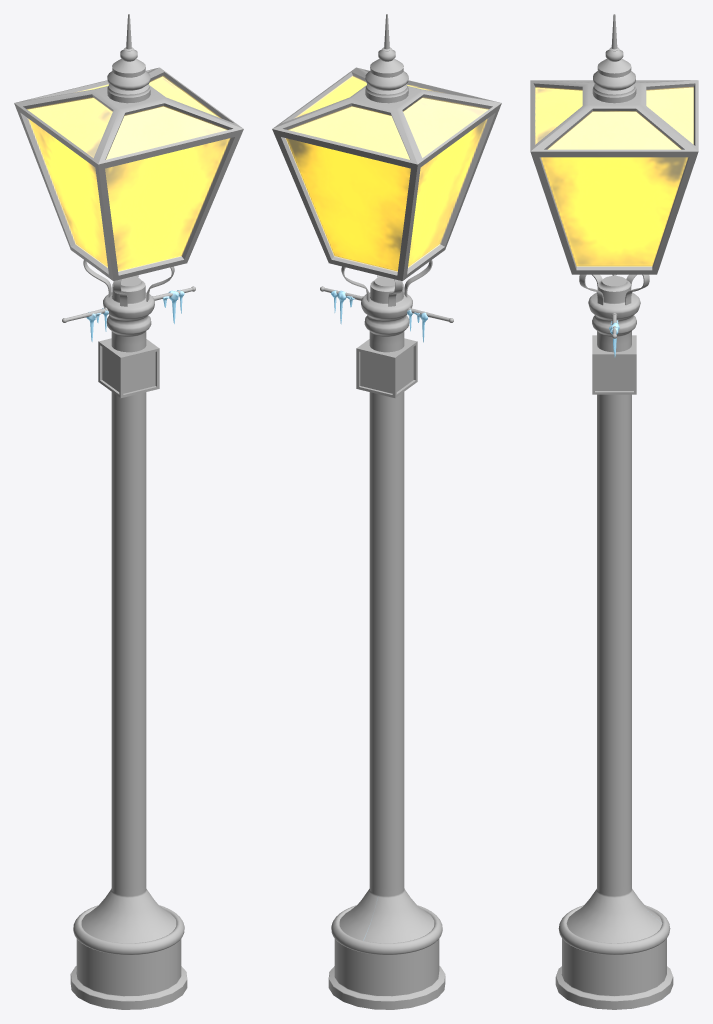
3 views of the same model, side by side, from view 1: azimuth 30°, elevation 25°; view 2: azimuth 150°, elevation 25°; view 3: azimuth 270°, elevation 25° (orthographic).
Visible parts, largest first — view 1: Lamp_Low; view 2: Lamp_Low; view 3: Lamp_Low.
Boxes of the visible parts, x1,y1,x2,y2 form: Lamp_Low: [14, 14, 243, 1009]; Lamp_Low: [272, 14, 501, 1009]; Lamp_Low: [530, 14, 698, 1009].
Bounding box in the file's own units: 0.5401 × 3.44 × 0.5401.
